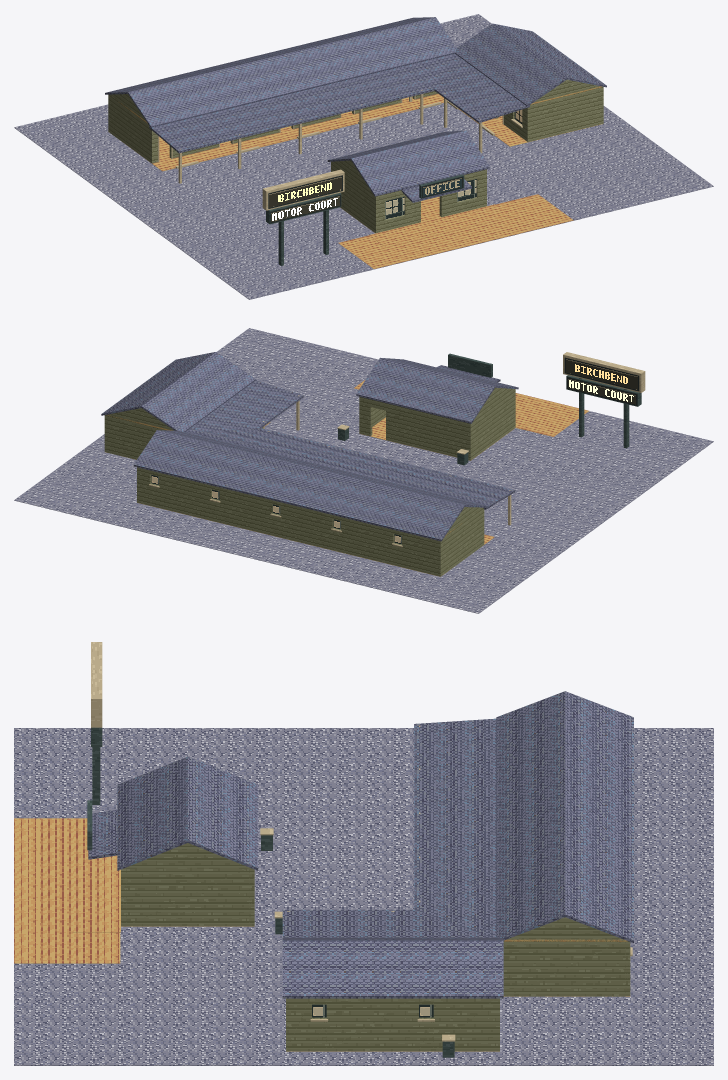
The model's file is birchbend-1935.glb.
3 views of the same model, one above another, from view 1: azimuth 30°, elevation 25°; view 2: azimuth 150°, elevation 25°; view 3: azimuth 270°, elevation 25° (orthographic). The views are drawn at different scales.
Parts seen in each view (by area): view 1: lot, shell, roadside_sign, sign_name_street, interior; view 2: shell, lot, roadside_sign, sign_name_exit, interior; view 3: lot, shell, roadside_sign.
Boxes of the visible parts, x1,y1,x2,y2 form: lot: [14, 14, 713, 299]; shell: [105, 17, 606, 233]; roadside_sign: [262, 169, 344, 265]; sign_name_street: [268, 175, 342, 208]; interior: [109, 96, 603, 232]; shell: [101, 352, 518, 576]; lot: [14, 328, 713, 613]; roadside_sign: [563, 352, 645, 448]; sign_name_exit: [564, 357, 639, 391]; interior: [105, 417, 514, 576]; lot: [14, 728, 713, 1065]; shell: [87, 691, 633, 1051]; roadside_sign: [91, 642, 102, 804].
Size of what is drawn, in the model's own units: 35.8 by 5.83 by 31.4.
8 materials, 8 textured.
